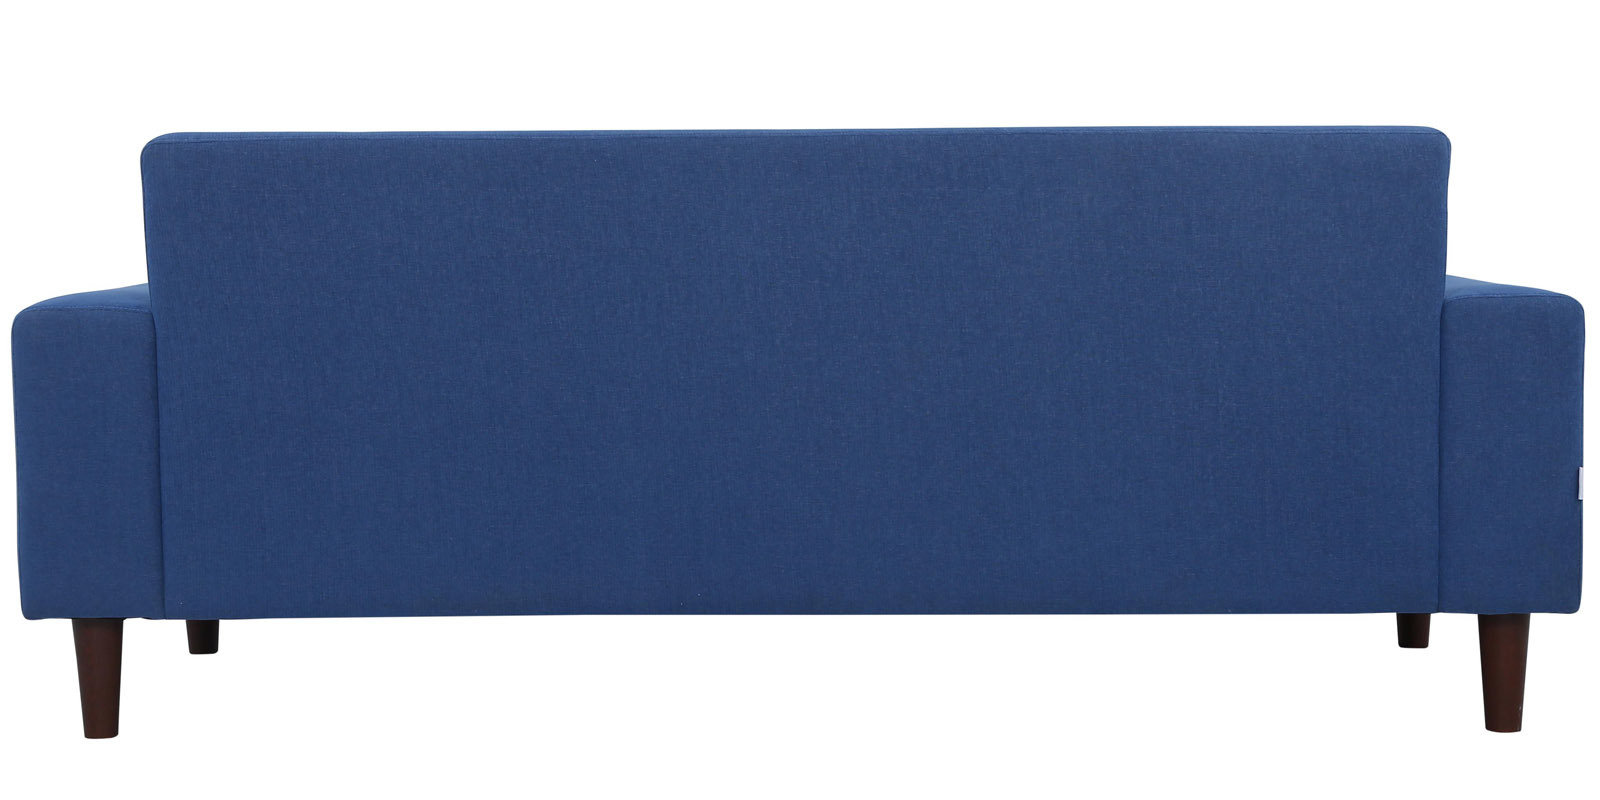Cordoba Three Seater Sofa in Denim Blue Colour by CasaCraft: (9, 131, 1589, 748)
